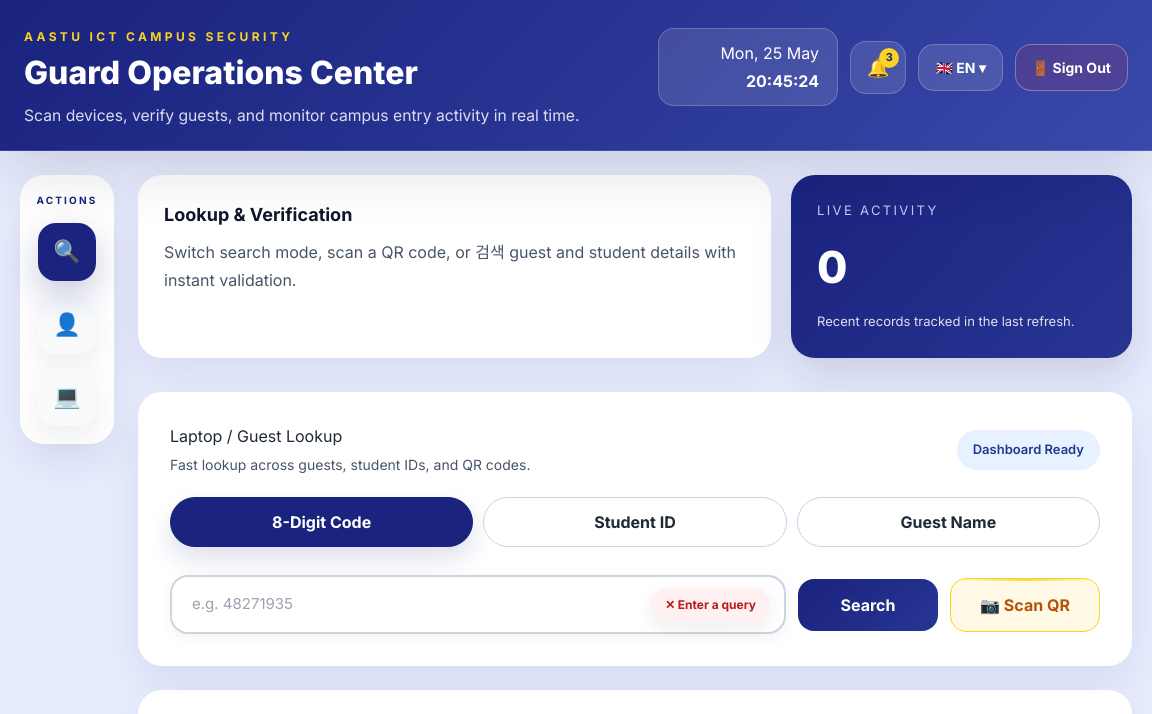
Test case: GuardDashboard › shows Verify Laptop button and no entry/exit buttons when status is PENDING
The image size is (1152, 714).
In the field with placeholder "e.g. 48271935": (478, 605) [170,575,786,634], type "12345678"
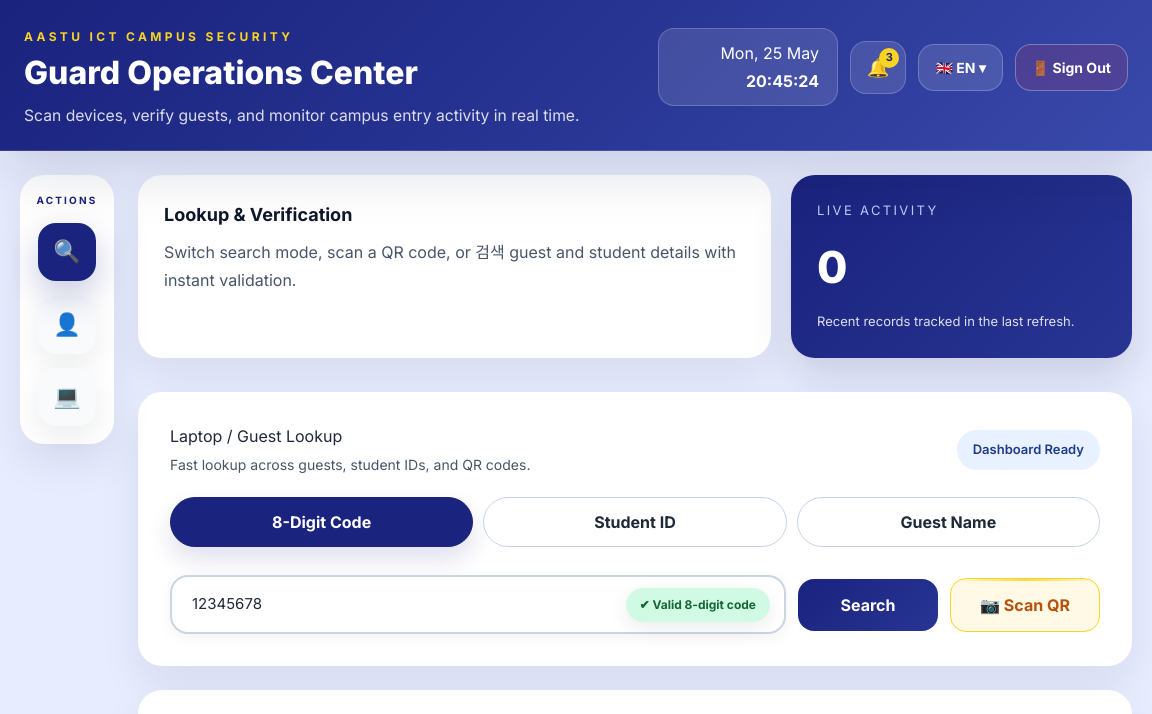
Click the button "Search": (868, 605) [798,579,938,631]
(page scrolled)
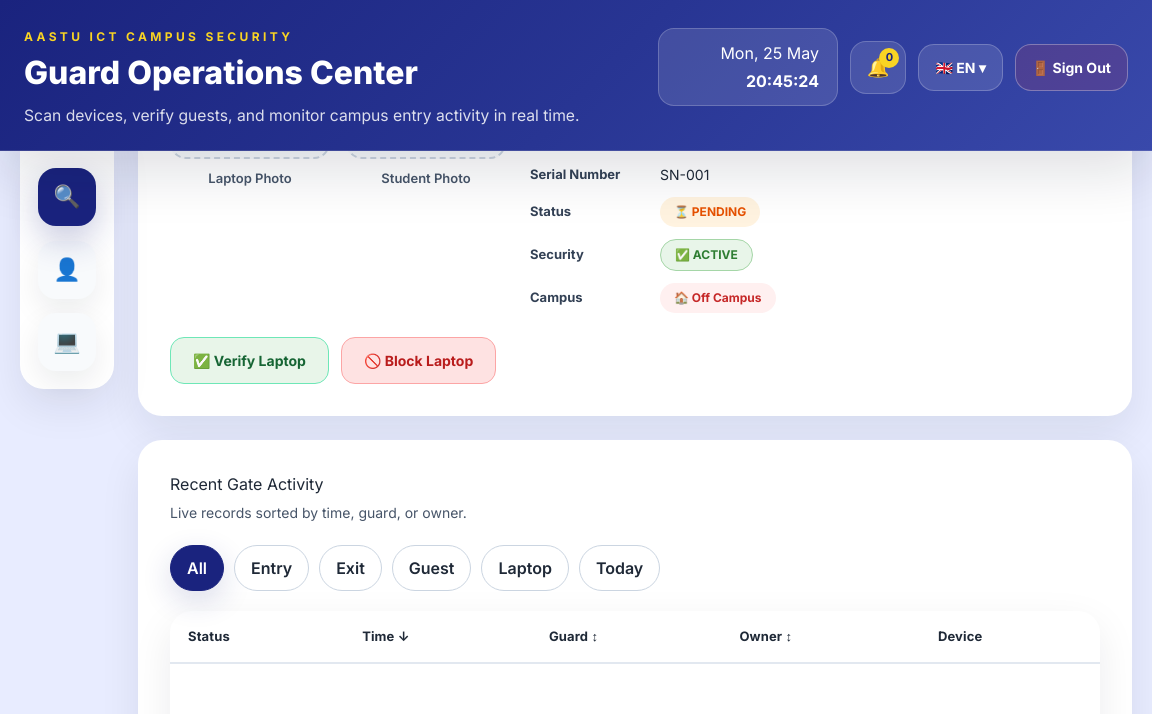
Now the button "✅ Verify Laptop" is shown, box [170,337,329,384]
